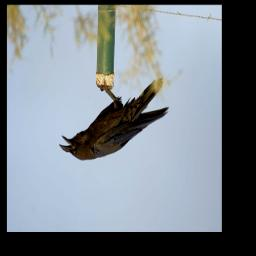Crow: (58, 77, 171, 165)
